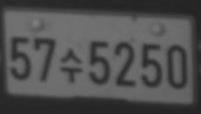0: (166, 44, 188, 89)
2: (114, 41, 136, 87)
5: (140, 42, 163, 88), (88, 40, 110, 85), (9, 36, 31, 79)
7: (33, 37, 56, 82)
수: (59, 48, 82, 84)
